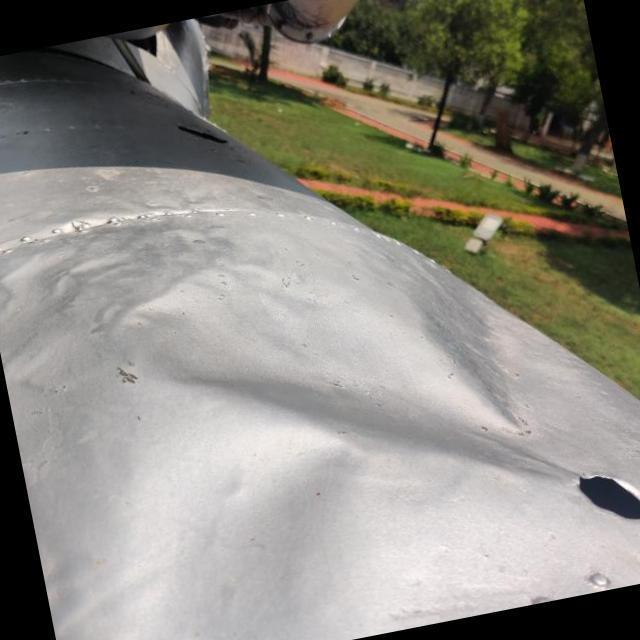Dent: (120, 173, 582, 560), (0, 222, 109, 337)
